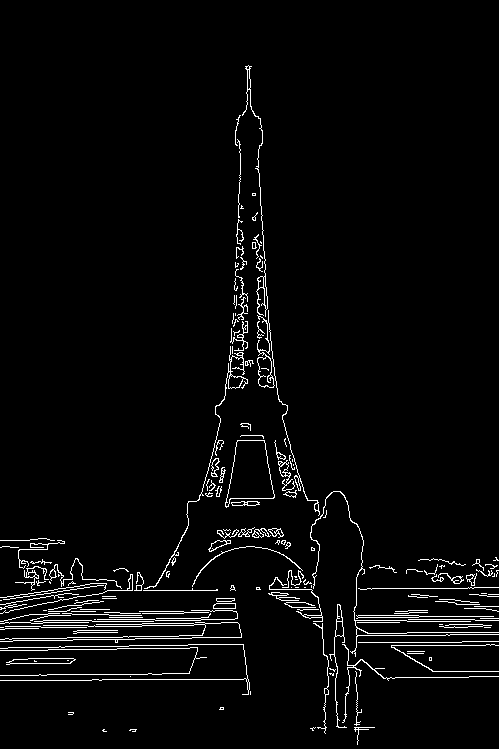eiffel tower: (164, 43, 339, 596)
